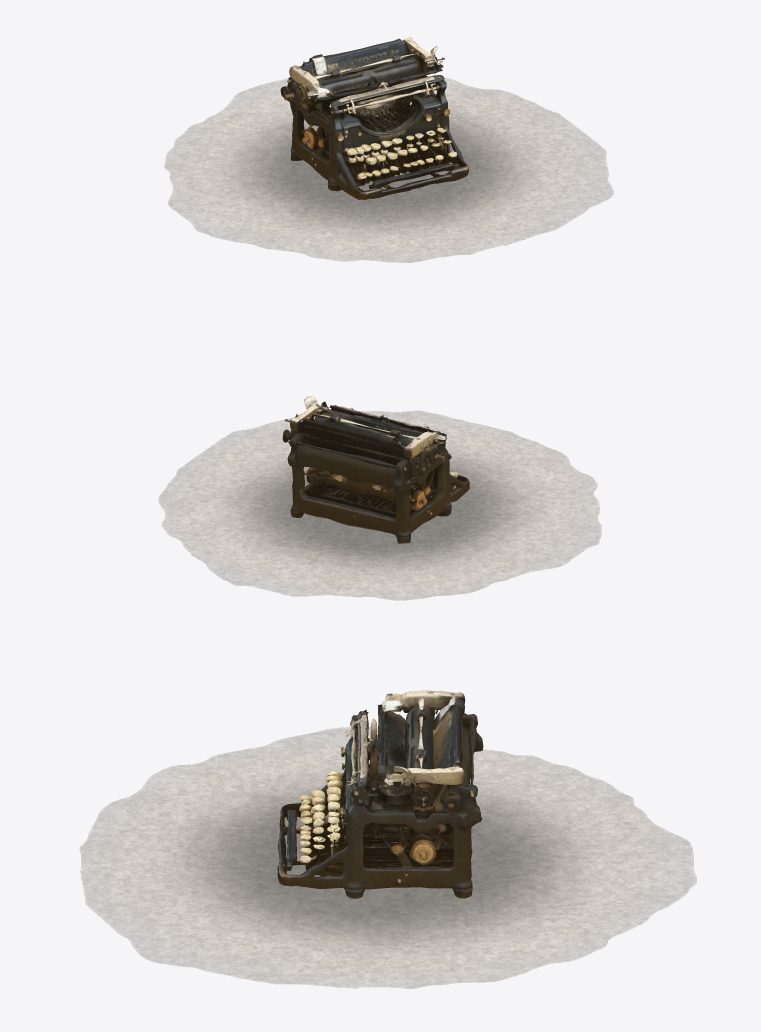
File: maquina.glb
The picture shows the model from 3 angles, top to bottom: view 1: azimuth 30°, elevation 25°; view 2: azimuth 150°, elevation 25°; view 3: azimuth 270°, elevation 25°; orthographic projection. The views are drawn at different scales.
Parts seen in each view (by area): view 1: Terreno, Televisor; view 2: Terreno, Televisor; view 3: Terreno, Televisor.
Part boxes in pixels (x1,y1,x2,y2): Terreno: [164, 76, 613, 262]; Televisor: [280, 37, 468, 199]; Terreno: [158, 409, 601, 600]; Televisor: [282, 396, 469, 543]; Terreno: [79, 727, 696, 988]; Televisor: [277, 690, 483, 898].
Size of the model in its own units: 2.97 by 0.6329 by 2.97.
2 materials, 2 textured.
